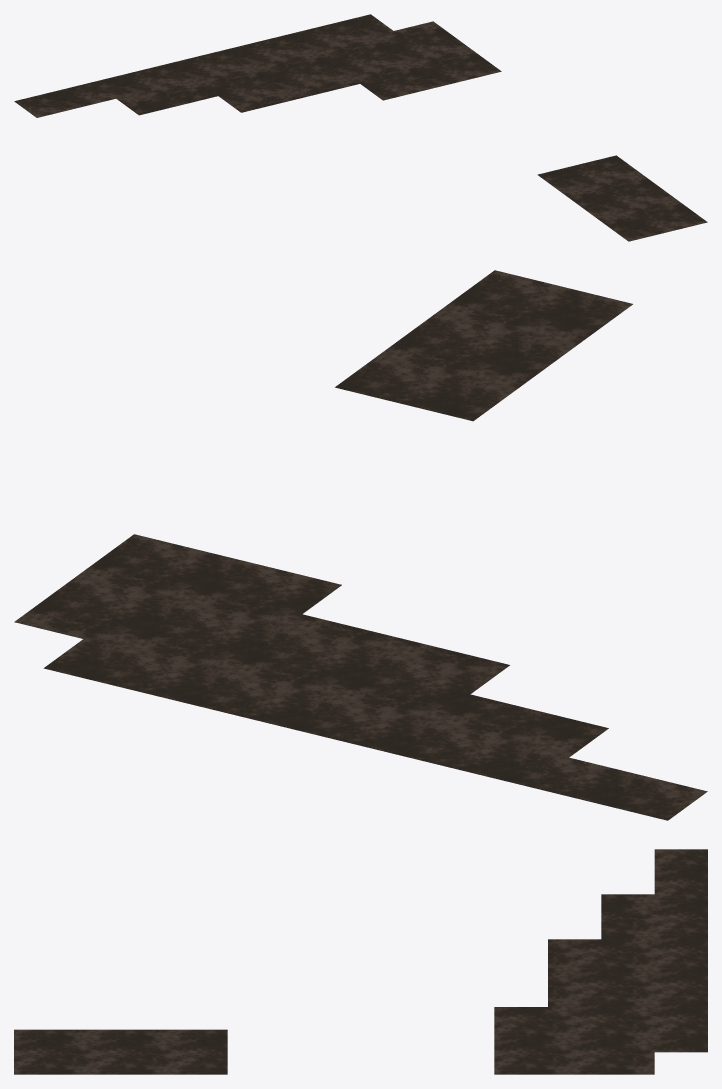
The model's file is floor_-2_-2.glb.
The picture shows the model from 3 angles, top to bottom: view 1: azimuth 30°, elevation 25°; view 2: azimuth 150°, elevation 25°; view 3: azimuth 270°, elevation 25°; orthographic projection. The views are drawn at different scales.
Parts seen in each view (by area): view 1: floor_-2_-2; view 2: floor_-2_-2; view 3: floor_-2_-2.
Part boxes in pixels (x1,y1,x2,y2): floor_-2_-2: [14, 14, 707, 241]; floor_-2_-2: [14, 270, 707, 820]; floor_-2_-2: [14, 849, 707, 1074].
Size of the model in its own units: 40 by 0 by 52.
Materials: 1 (1 with a texture image).
